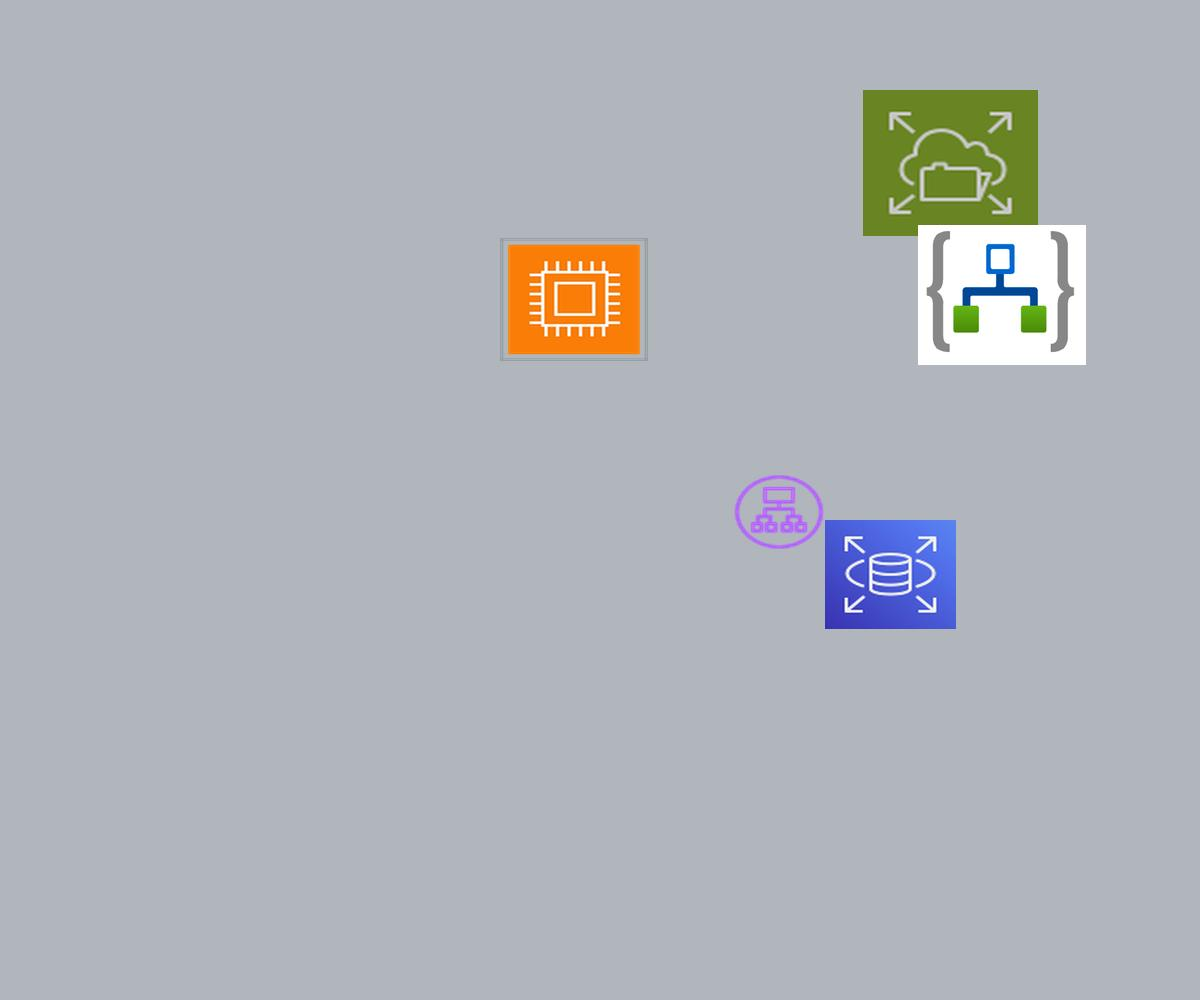AWS-Category_Compute: (500, 238, 648, 361)
AWS-EFS: (863, 90, 1038, 236)
AWS-RDS: (825, 520, 956, 629)
AWS-Res_Elastic-Load-Balancing_Application-Load-Balancer: (731, 472, 827, 552)
Azure_integration-204-Logic-Apps: (918, 225, 1086, 365)
